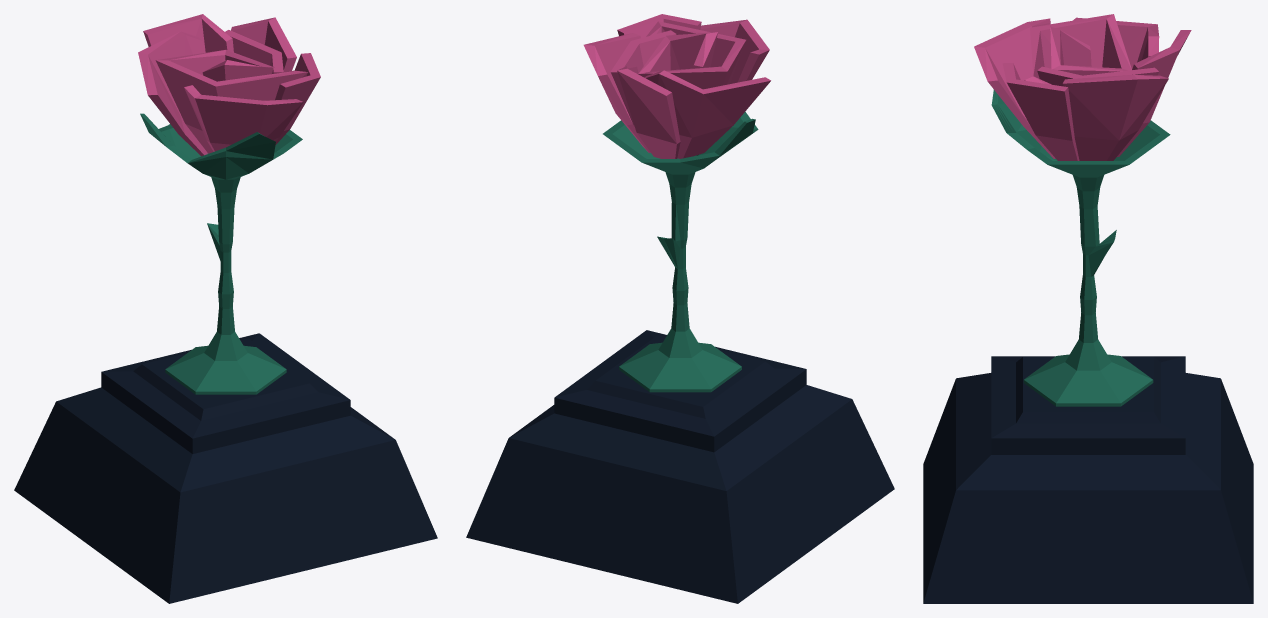
File: newrosenoplane.dae
3 views of the same model, side by side, from view 1: azimuth 30°, elevation 25°; view 2: azimuth 150°, elevation 25°; view 3: azimuth 270°, elevation 25° (orthographic). The views are drawn at different scales.
Visible parts, largest first — view 1: Cube, BezierCurve, Circle; view 2: Cube, BezierCurve, Circle; view 3: Cube, BezierCurve, Circle.
Part boxes in pixels (x1,y1,x2,y2): Cube: [14, 333, 437, 603]; BezierCurve: [138, 14, 320, 156]; Circle: [140, 113, 302, 394]; Cube: [466, 330, 894, 603]; BezierCurve: [583, 14, 770, 158]; Circle: [603, 111, 758, 392]; Cube: [923, 356, 1253, 603]; BezierCurve: [974, 14, 1191, 160]; Circle: [991, 89, 1170, 406].
Bounding box in the file's own units: 3.78 × 3.78 × 6.28.
